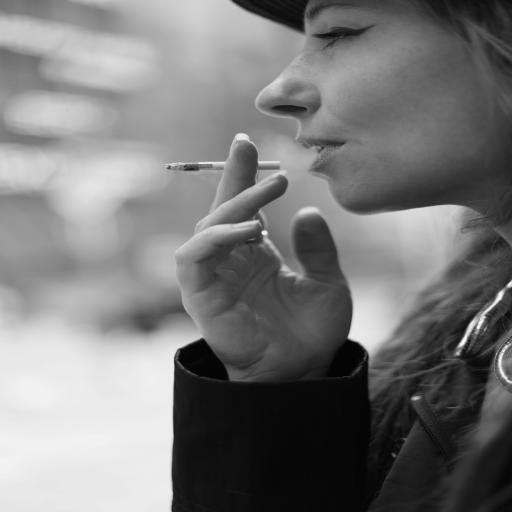terdeteksi merokok: (140, 43, 333, 214)
